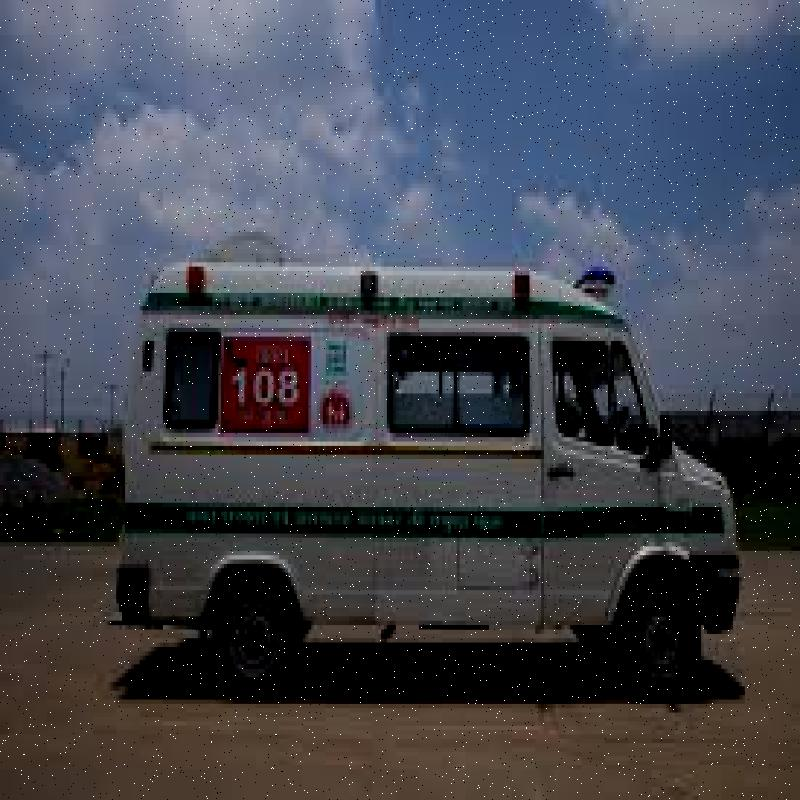ambulance: (131, 261, 721, 700)
